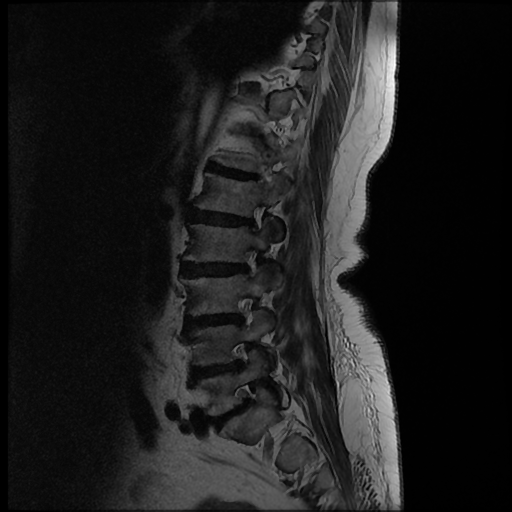LFS0: (227, 287, 262, 332), (224, 333, 260, 373), (229, 376, 265, 415), (235, 238, 266, 282), (242, 196, 272, 237)
